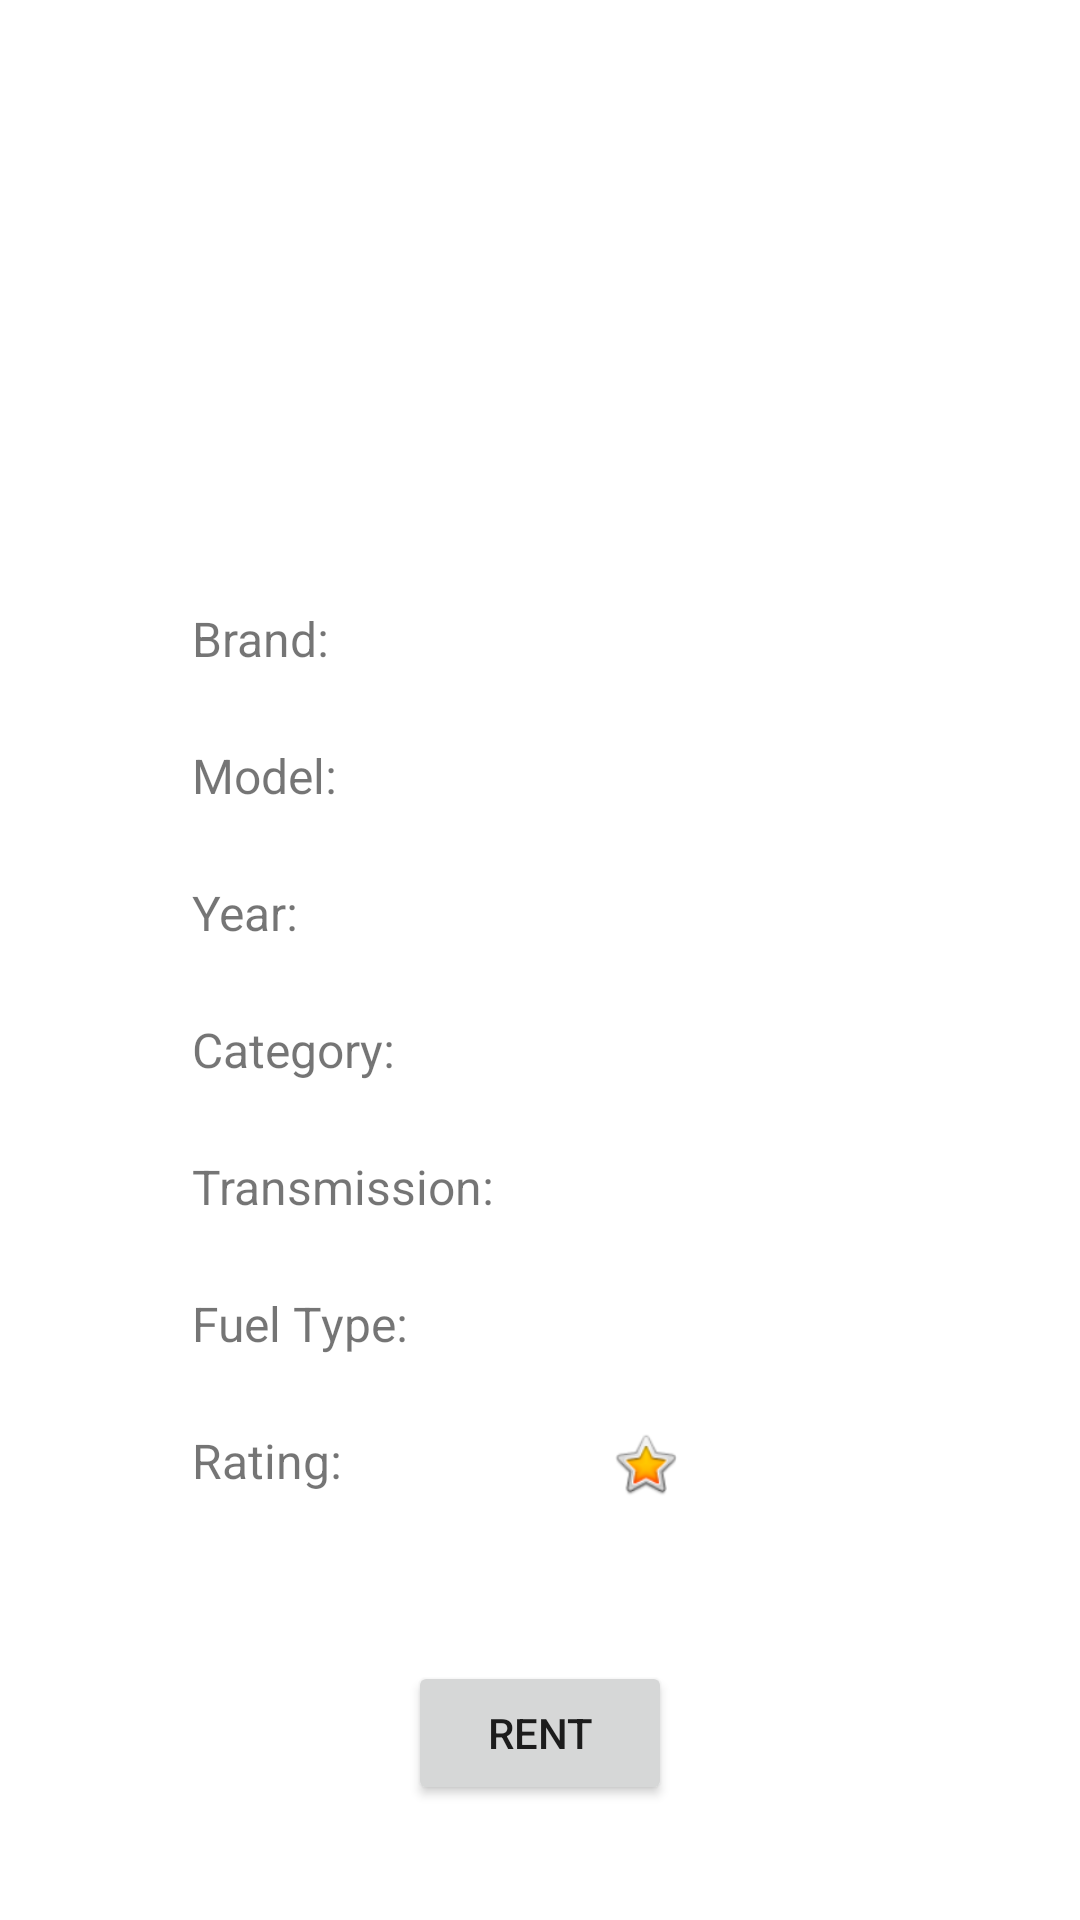

Where icons sit on this 1080×1920 app screen, as (x1, y1, x2, y2):
star on: (616, 1435, 676, 1494)
